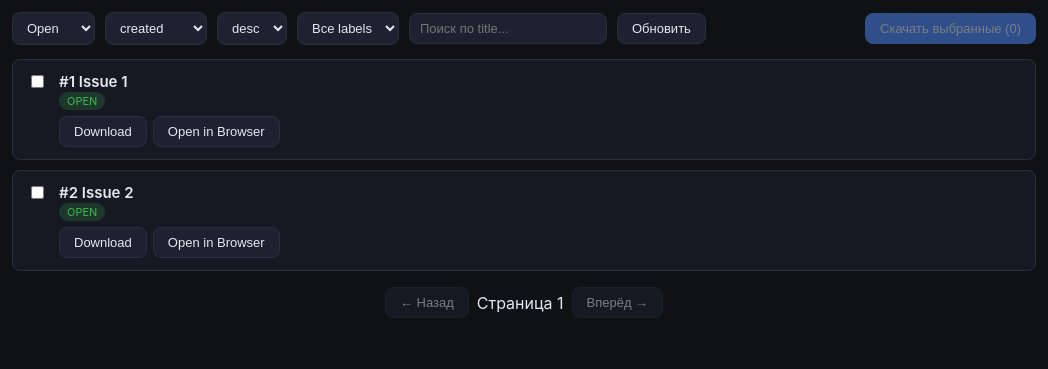
Scenario: selecting an issue › chips are labelled by what the filter does
The width and height of the screenshot is (1048, 369).
Type "!rel#a" into the field with placeholder "Поиск по title...".
click(508, 28); type("!rel#a")  # box [409, 13, 607, 44]
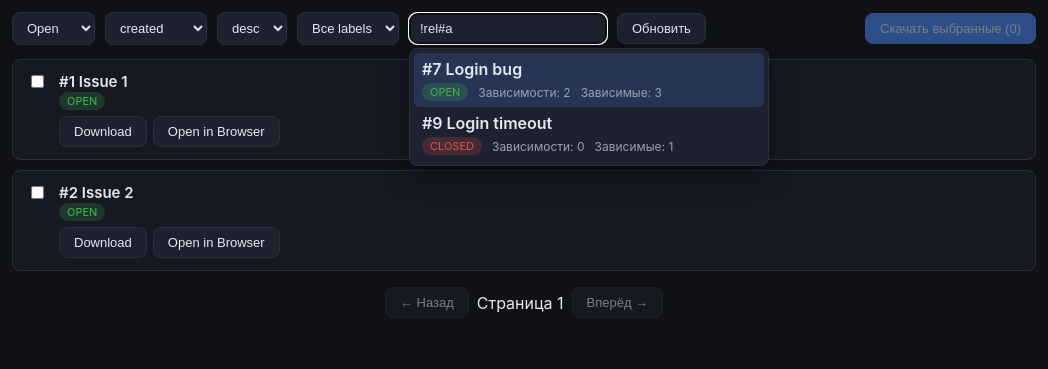
Click the option "#7 Login bug open Зависимости: 2 Зависимые: 3".
click(484, 69)  # box [414, 53, 764, 107]
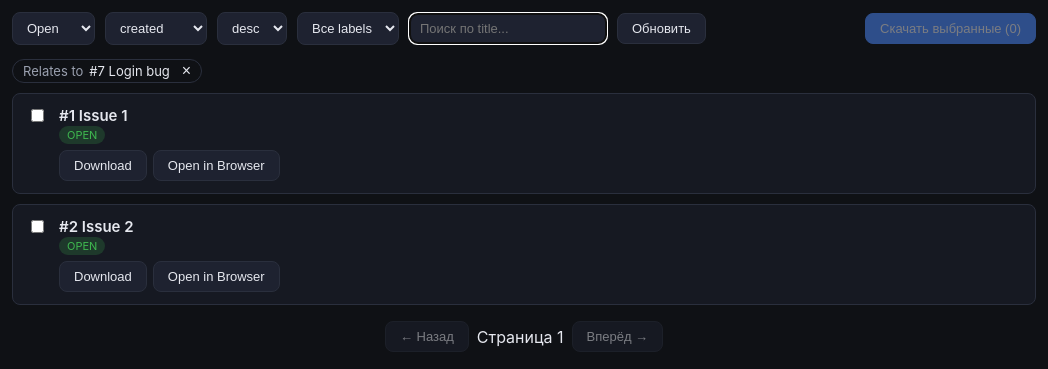
Type "!con#b" into the field with placeholder "Поиск по title...".
click(508, 28); type("!con#b")  # box [409, 13, 607, 44]
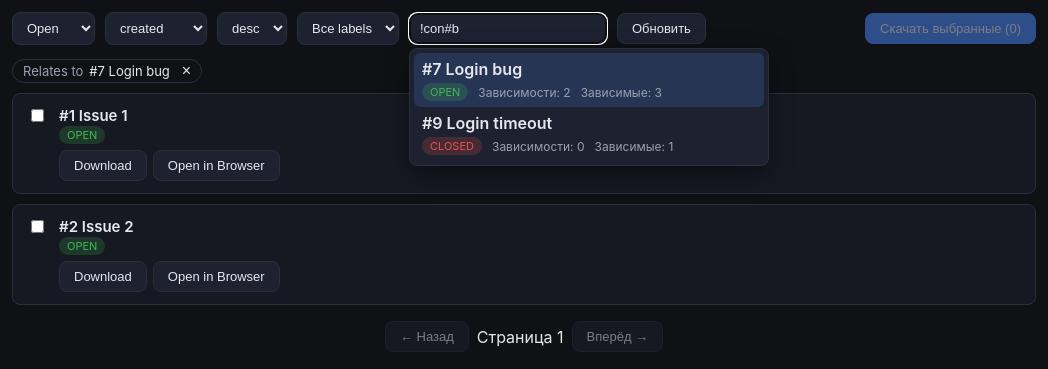
Click the option "#7 Login bug open Зависимости: 2 Зависимые: 3".
click(484, 69)  # box [414, 53, 764, 107]
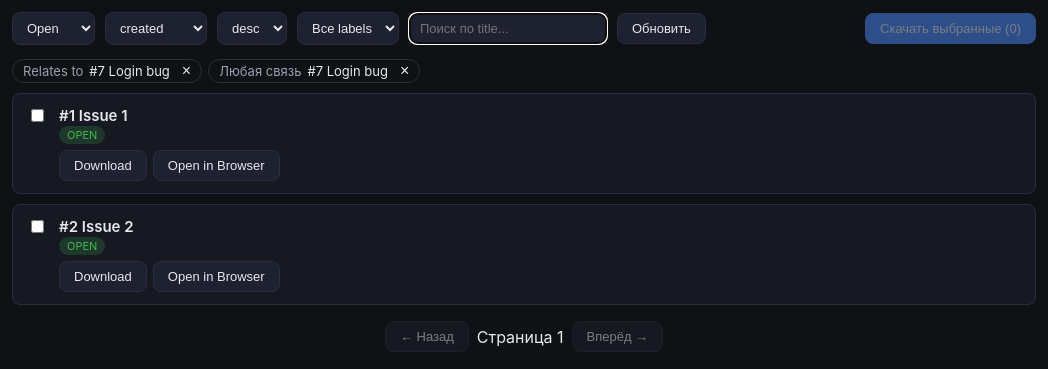
expect the text "Relates to" is shown: met, box [23, 63, 83, 79]
expect the text "Любая связь" is shown: met, box [219, 63, 301, 79]
